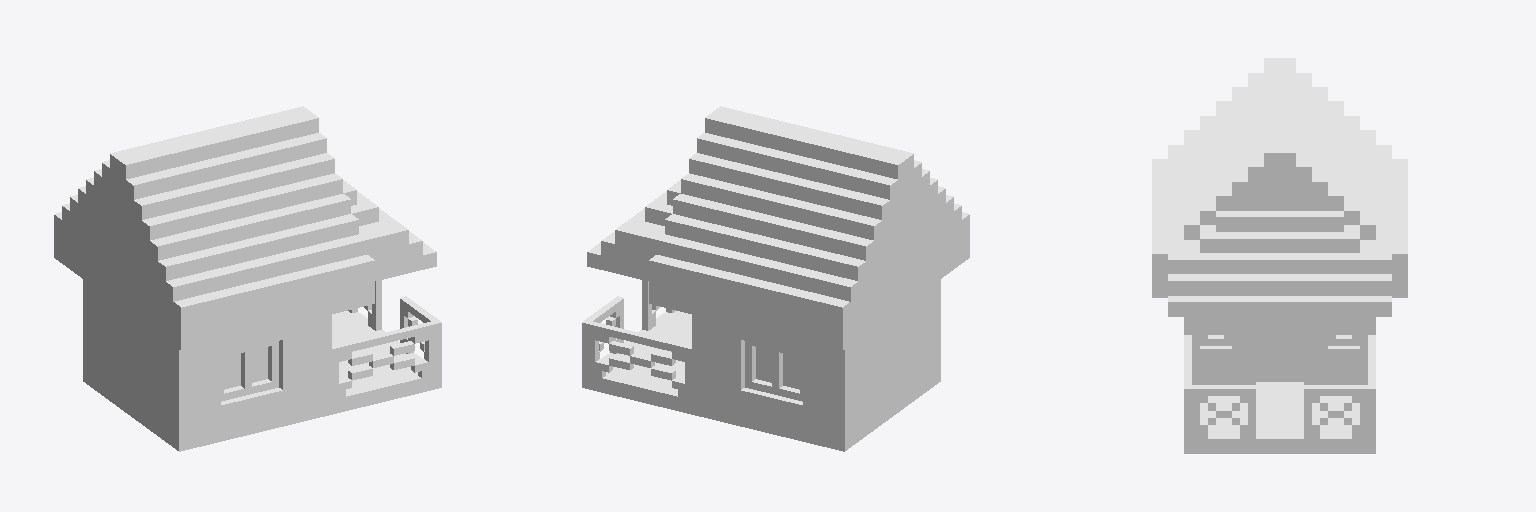
The model's file is Shack.obj.
The picture shows the model from 3 angles: view 1: azimuth 30°, elevation 25°; view 2: azimuth 150°, elevation 25°; view 3: azimuth 270°, elevation 25°; orthographic projection.
Parts seen in each view (by area): view 1: Shack; view 2: Shack; view 3: Shack.
Boxes of the visible parts, <box> form: Shack: <box>54,106,441,451</box>; Shack: <box>582,106,969,451</box>; Shack: <box>1152,58,1407,453</box>.
Size of the model in its own units: 40 by 36 by 32.